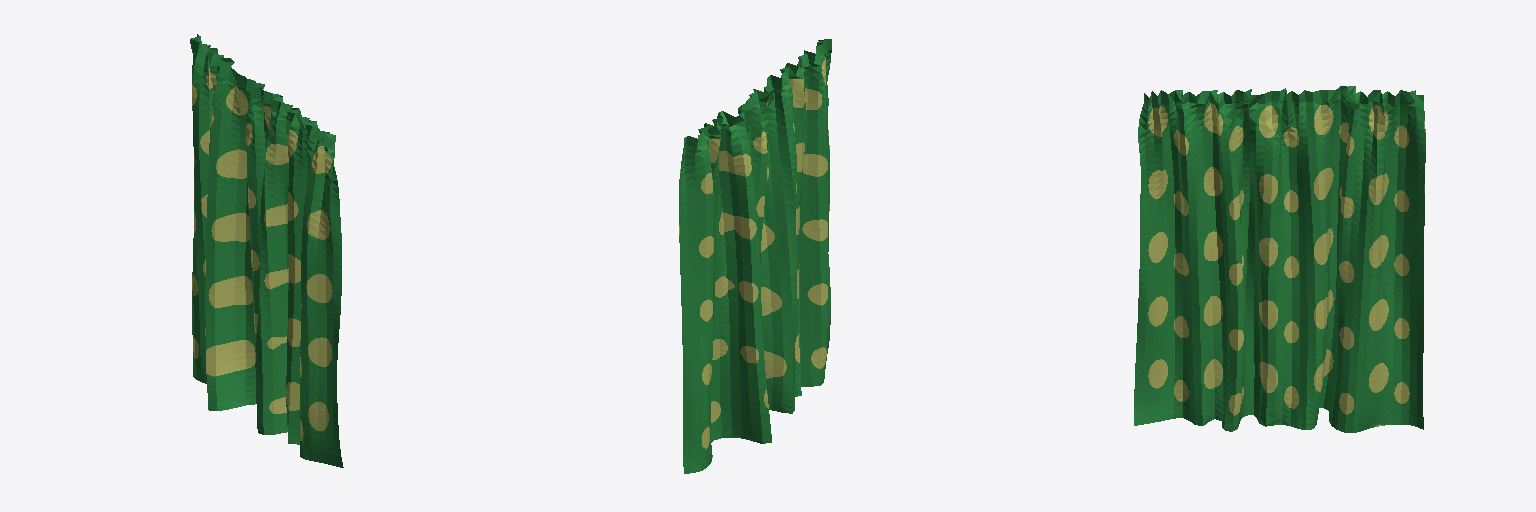
3 renders of one model, left to right at view 1: azimuth 30°, elevation 25°; view 2: azimuth 150°, elevation 25°; view 3: azimuth 270°, elevation 25°, orthographic.
Parts seen in each view (by area): view 1: polySurface2 pPlane5; view 2: polySurface2 pPlane5; view 3: polySurface2 pPlane5.
Part boxes in pixels (bbox=[...]): polySurface2 pPlane5: bbox=[190, 34, 343, 467]; polySurface2 pPlane5: bbox=[679, 39, 831, 473]; polySurface2 pPlane5: bbox=[1134, 86, 1425, 432].
Bounding box in the file's own units: 0.718 × 4.46 × 3.5.
1 materials, 1 textured.